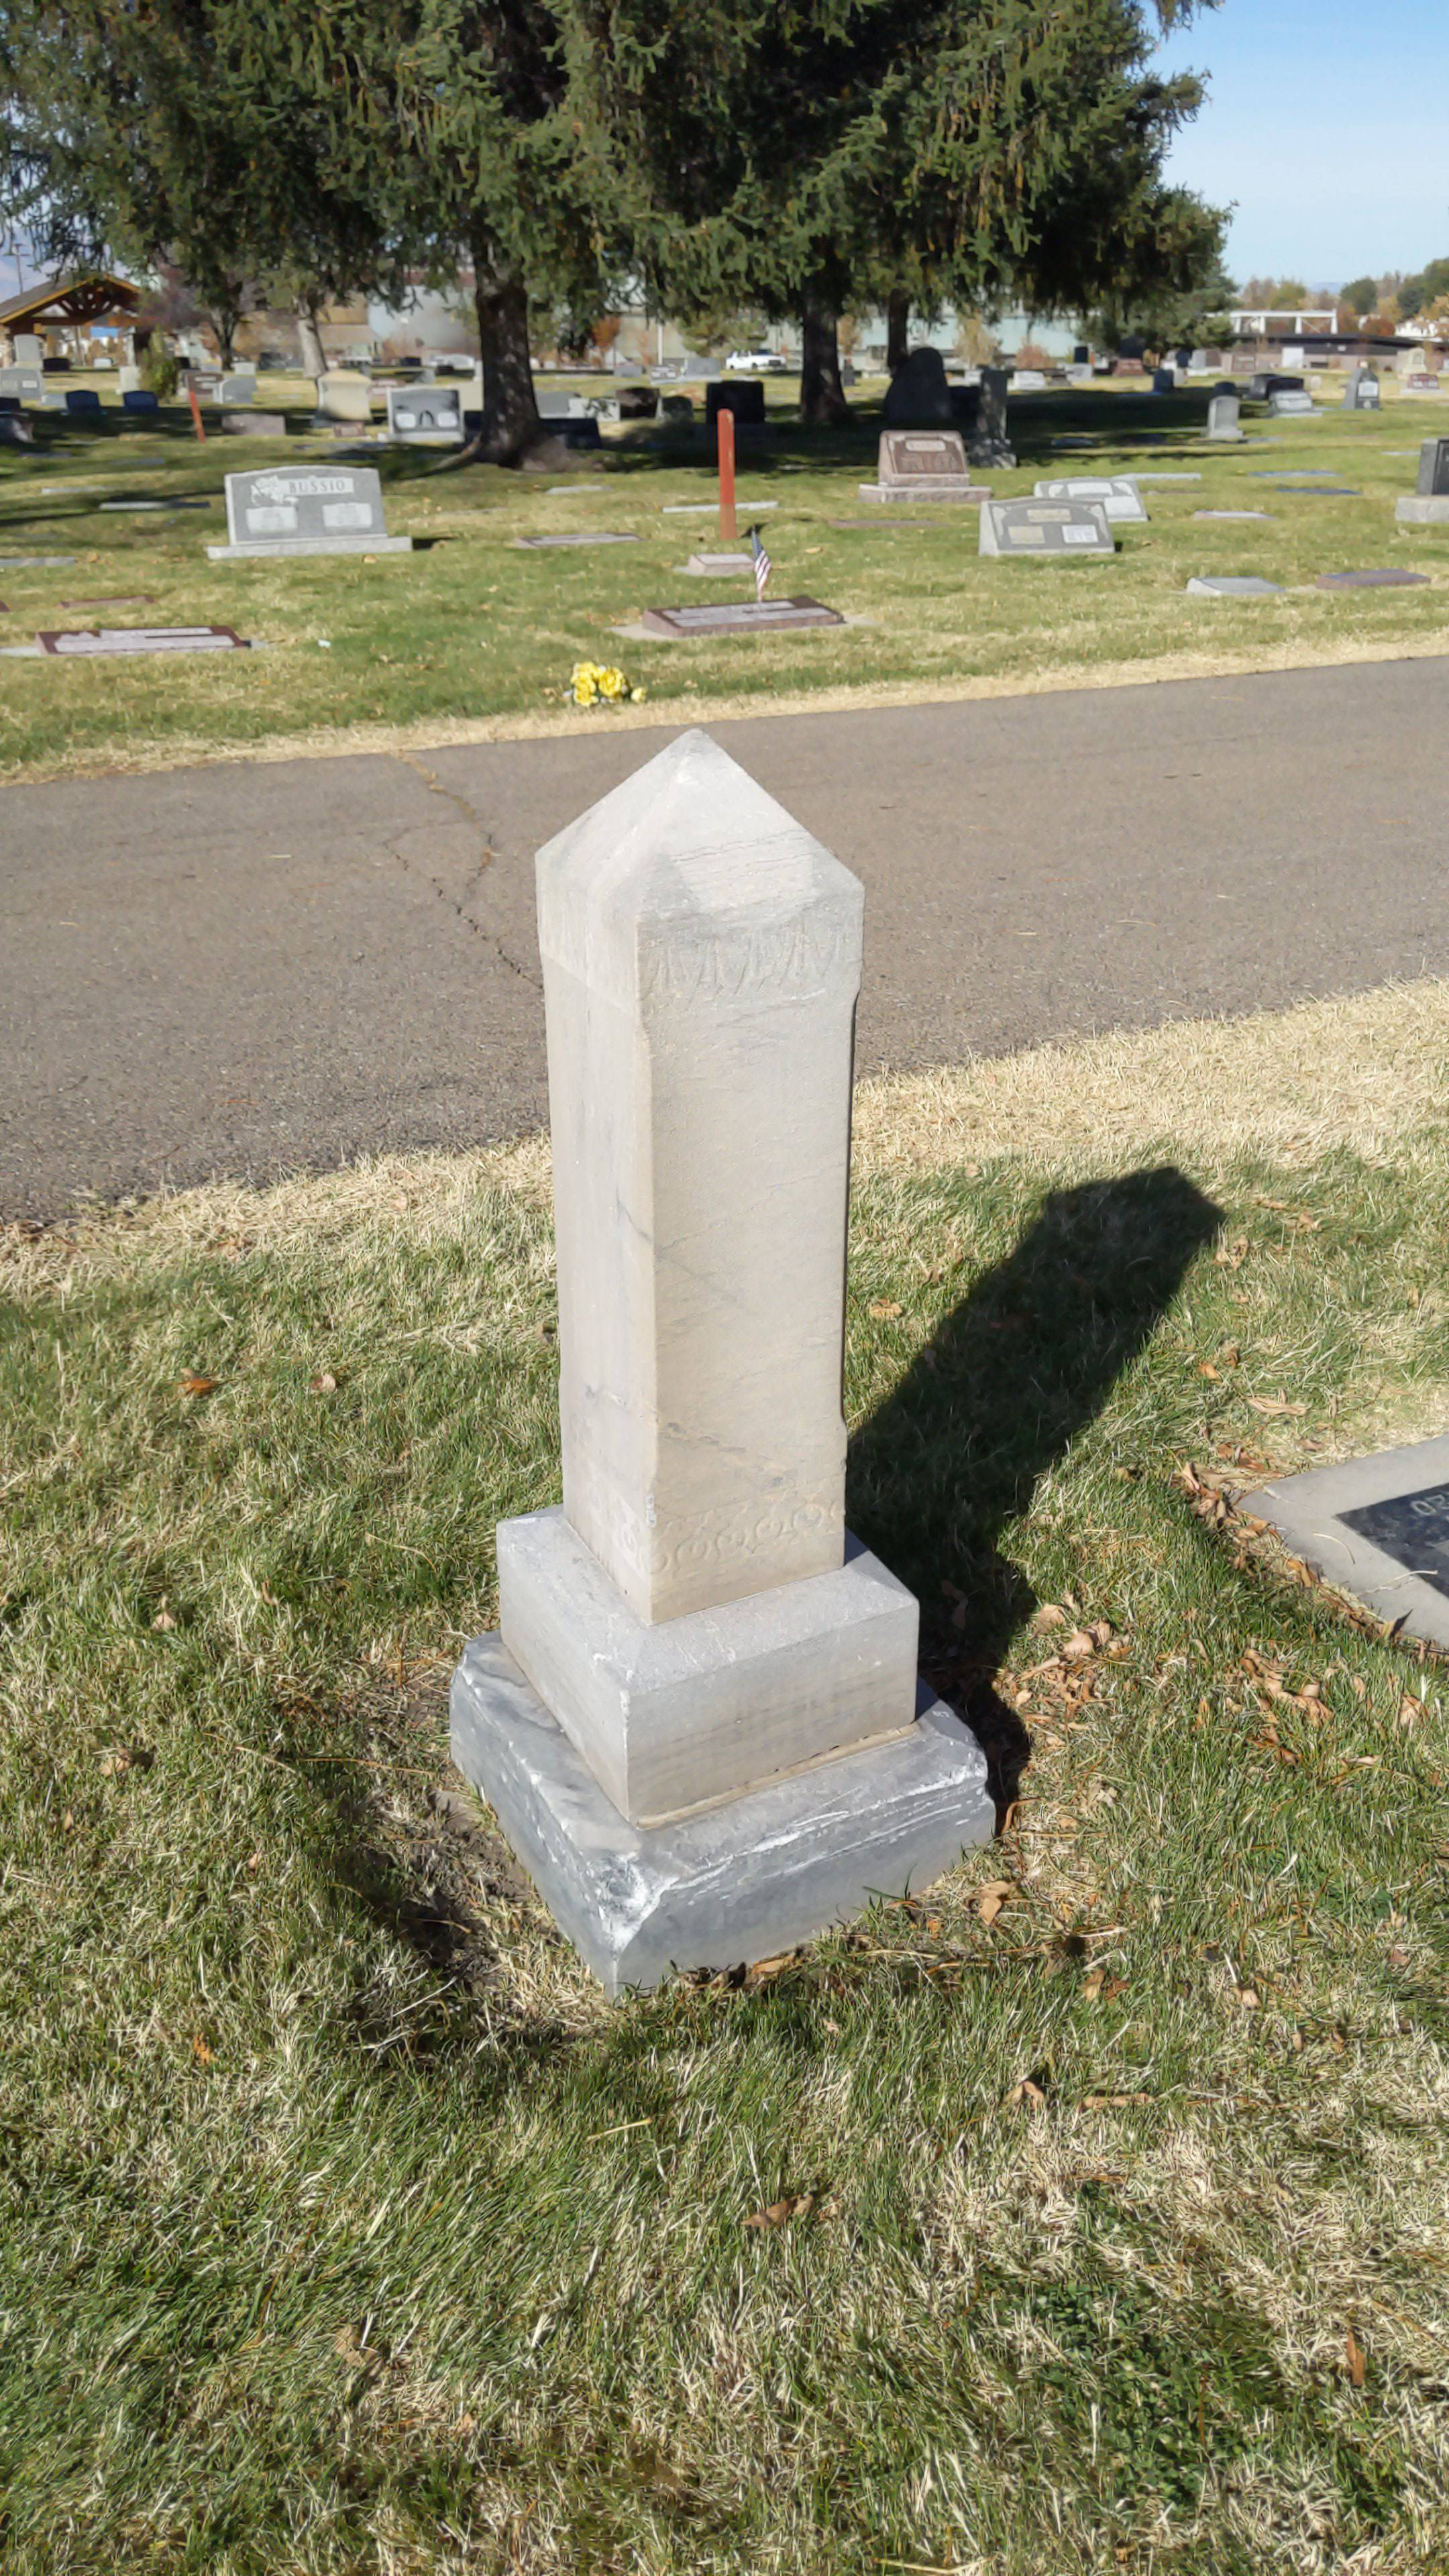obelisk: (479, 717, 924, 1828)
